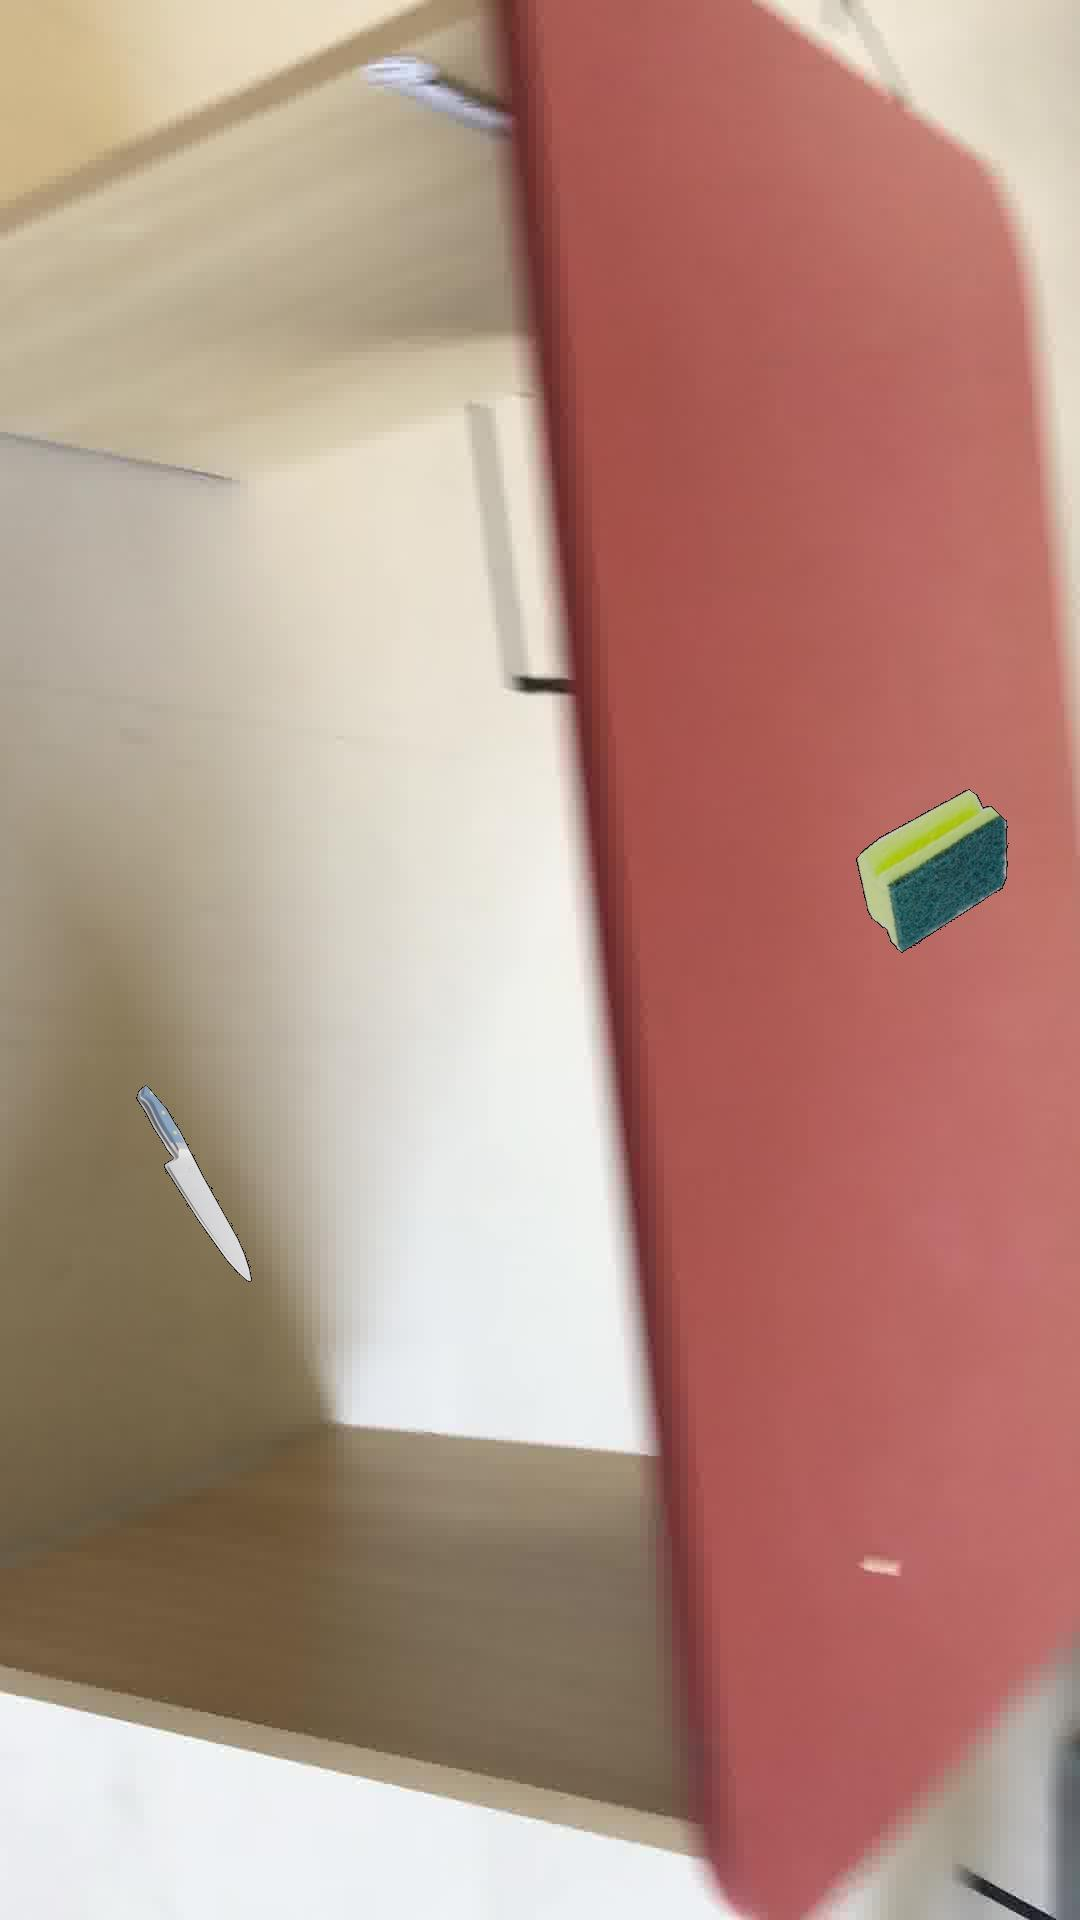knife: (135, 1084, 251, 1280)
sponge: (855, 787, 1006, 952)
